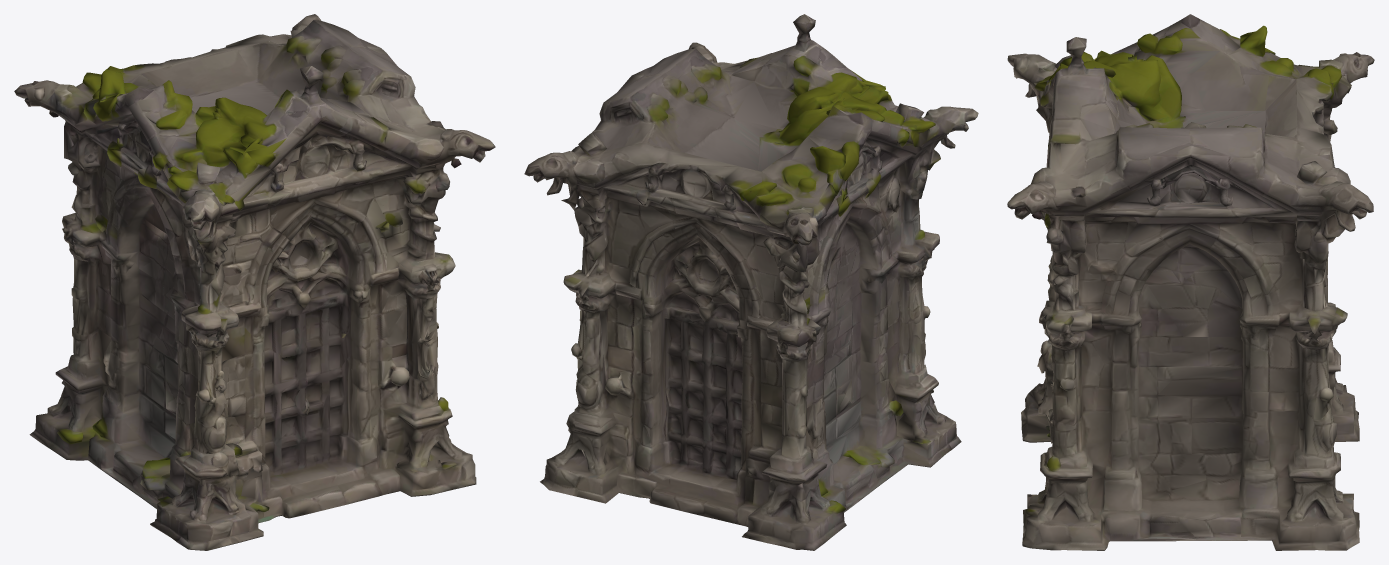
File: bld_goth_crypt.fbx
The picture shows the model from 3 angles, left to right: view 1: azimuth 30°, elevation 25°; view 2: azimuth 150°, elevation 25°; view 3: azimuth 270°, elevation 25°; orthographic projection. The views are drawn at different scales.
Parts seen in each view (by area): view 1: bld_goth_crypt_LOD0; view 2: bld_goth_crypt_LOD0; view 3: bld_goth_crypt_LOD0.
Boxes of the visible parts, x1=… form: bld_goth_crypt_LOD0: x1=14, y1=14, x2=495, y2=550; bld_goth_crypt_LOD0: x1=524, y1=14, x2=978, y2=550; bld_goth_crypt_LOD0: x1=1007, y1=14, x2=1374, y2=550.
Size of what is drawn, in the model's own units: 0.7168 by 0.9794 by 0.7396.
